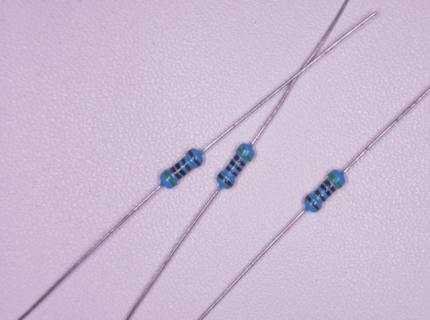Black band: (174, 162, 187, 176), (229, 159, 242, 172), (319, 184, 332, 197)
Brown band: (304, 195, 321, 211), (186, 149, 201, 167), (218, 173, 234, 188), (313, 188, 327, 202), (324, 178, 337, 192), (225, 165, 239, 178), (169, 166, 182, 180), (180, 157, 192, 172), (233, 154, 246, 167)
Green band: (161, 169, 177, 187), (236, 146, 252, 162), (327, 172, 343, 188)
